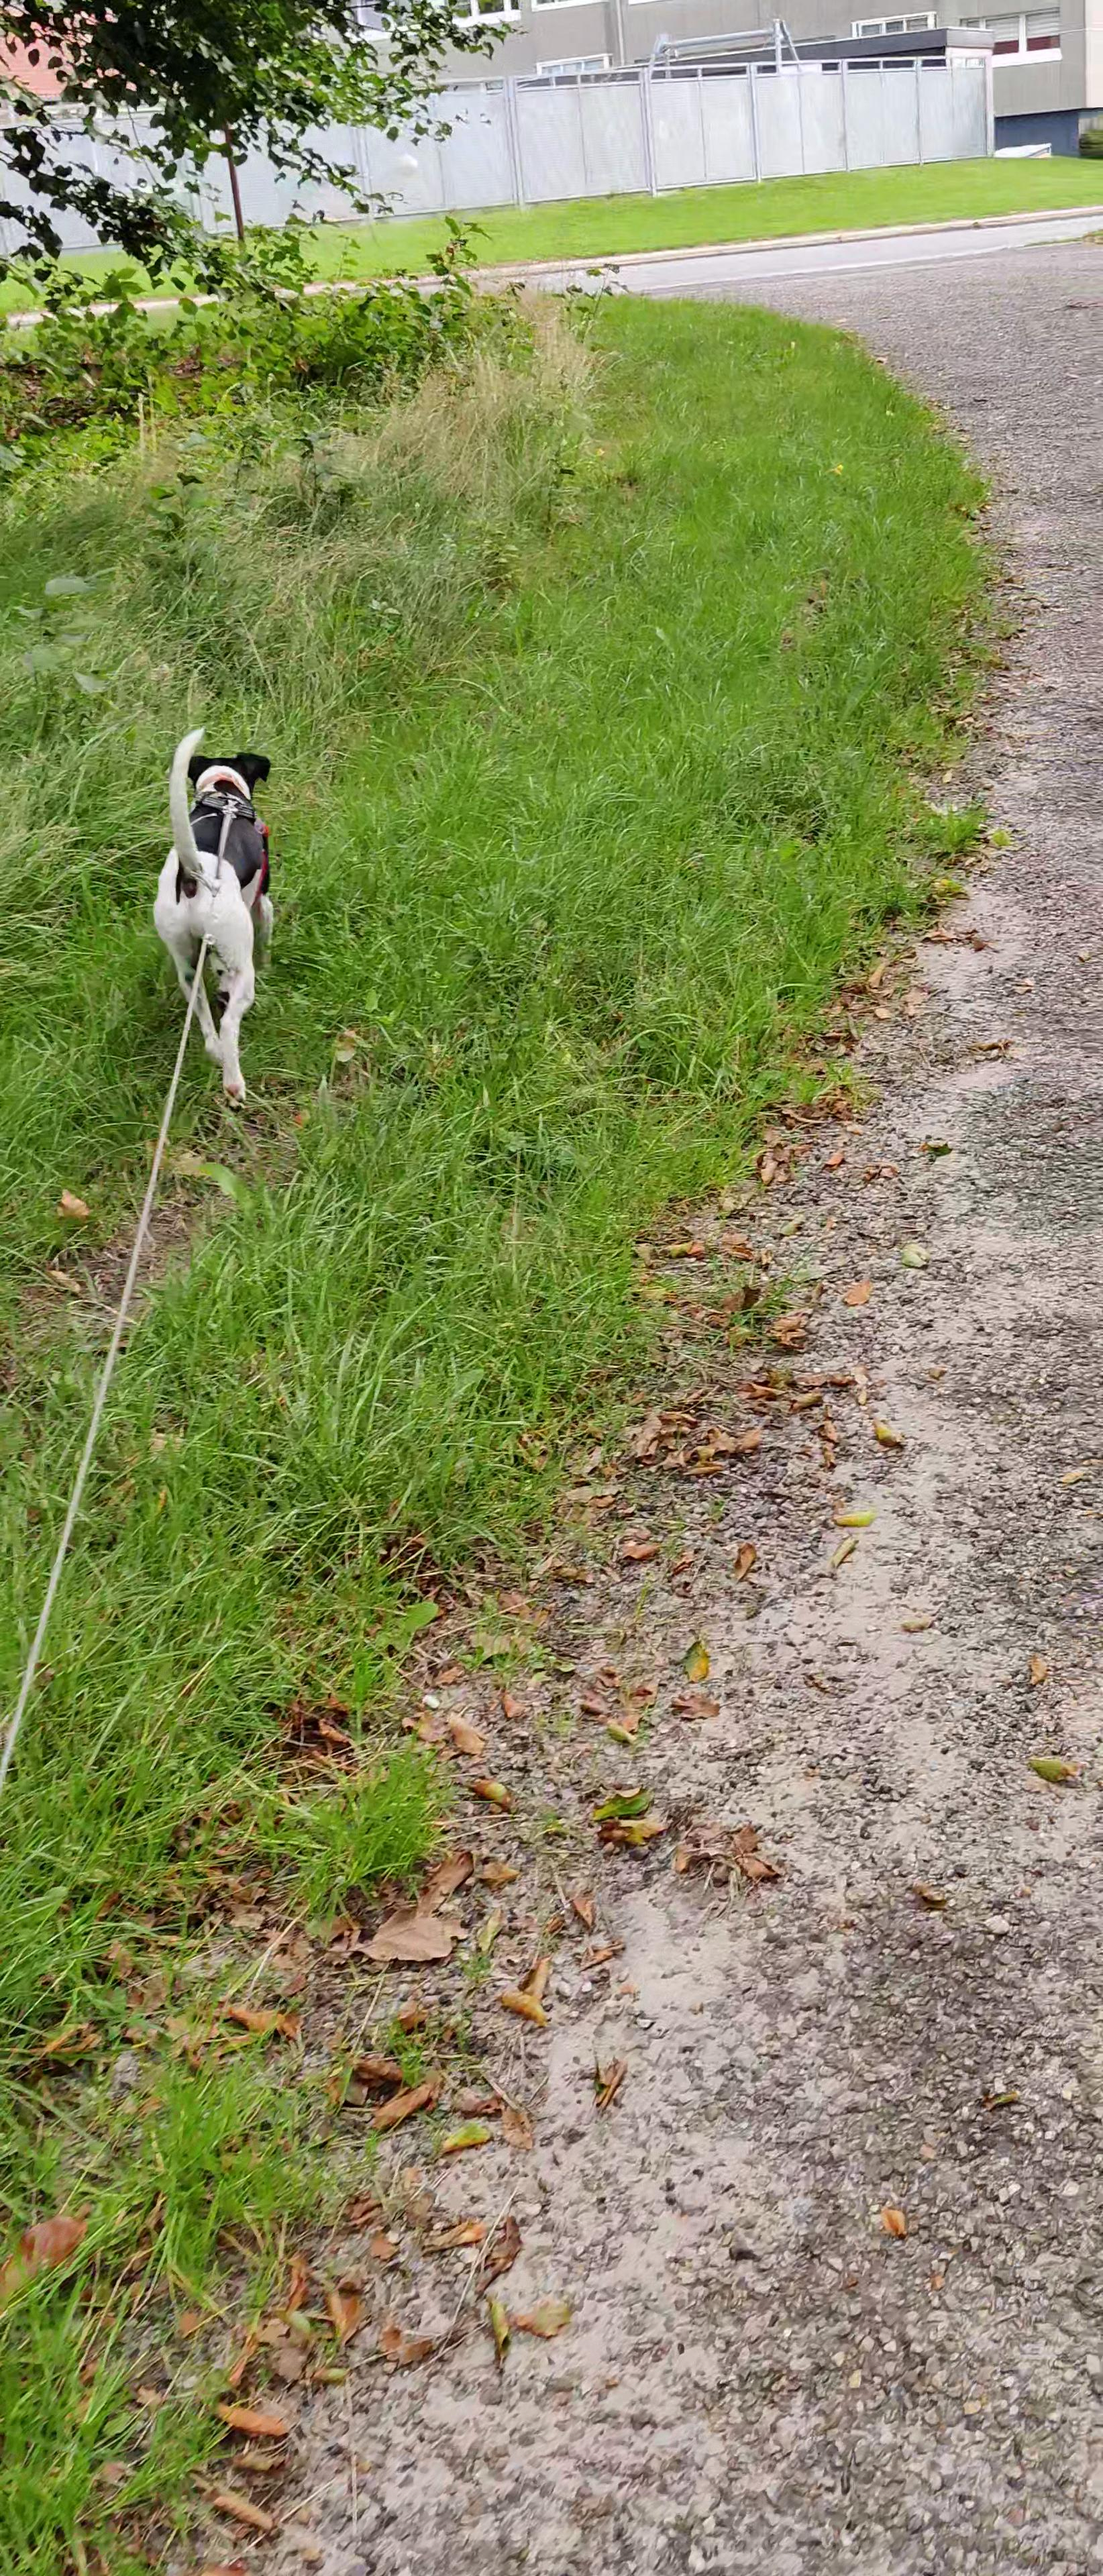Dog: (118, 706, 301, 1122)
